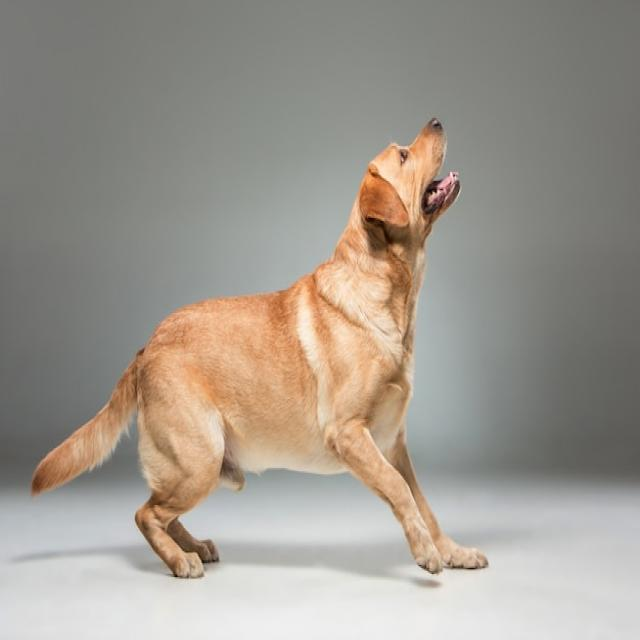Dog: (32, 119, 489, 577)
